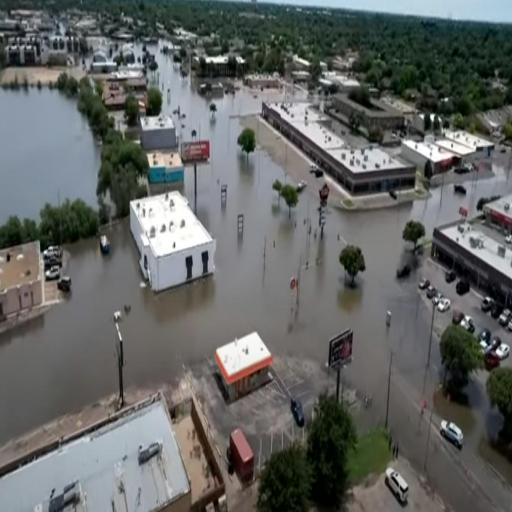flood: (0, 53, 512, 442), (0, 86, 100, 223)
house: (0, 383, 193, 512), (260, 96, 420, 190), (434, 192, 512, 324), (130, 190, 216, 294), (214, 328, 274, 404), (0, 236, 42, 336), (4, 36, 82, 74), (405, 134, 453, 180), (194, 54, 248, 92), (446, 128, 496, 168), (146, 146, 186, 188), (138, 110, 176, 152)
